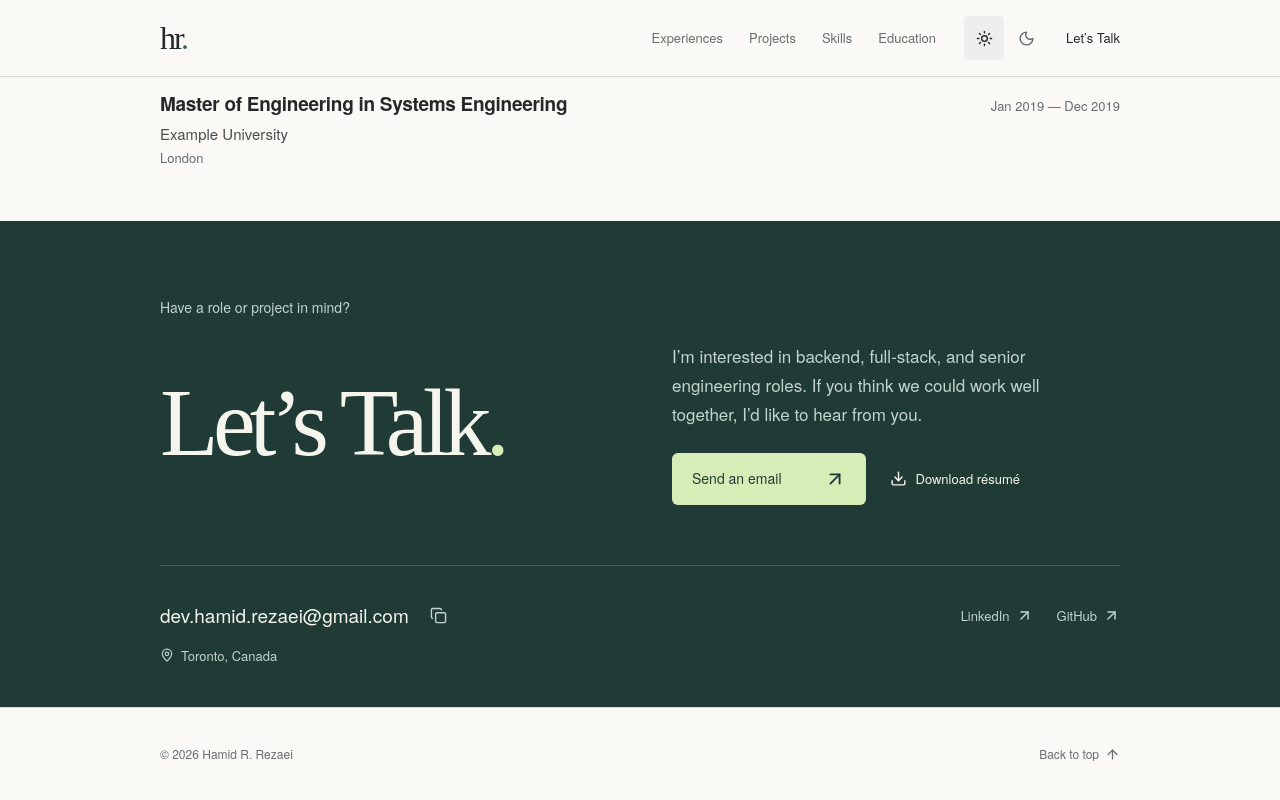
Scenario: resume sections › copies the email and announces the result
The image size is (1280, 800).
(page scrolled)
Click the button named "Copy email address": x=439, y=616 [419, 594, 459, 638]
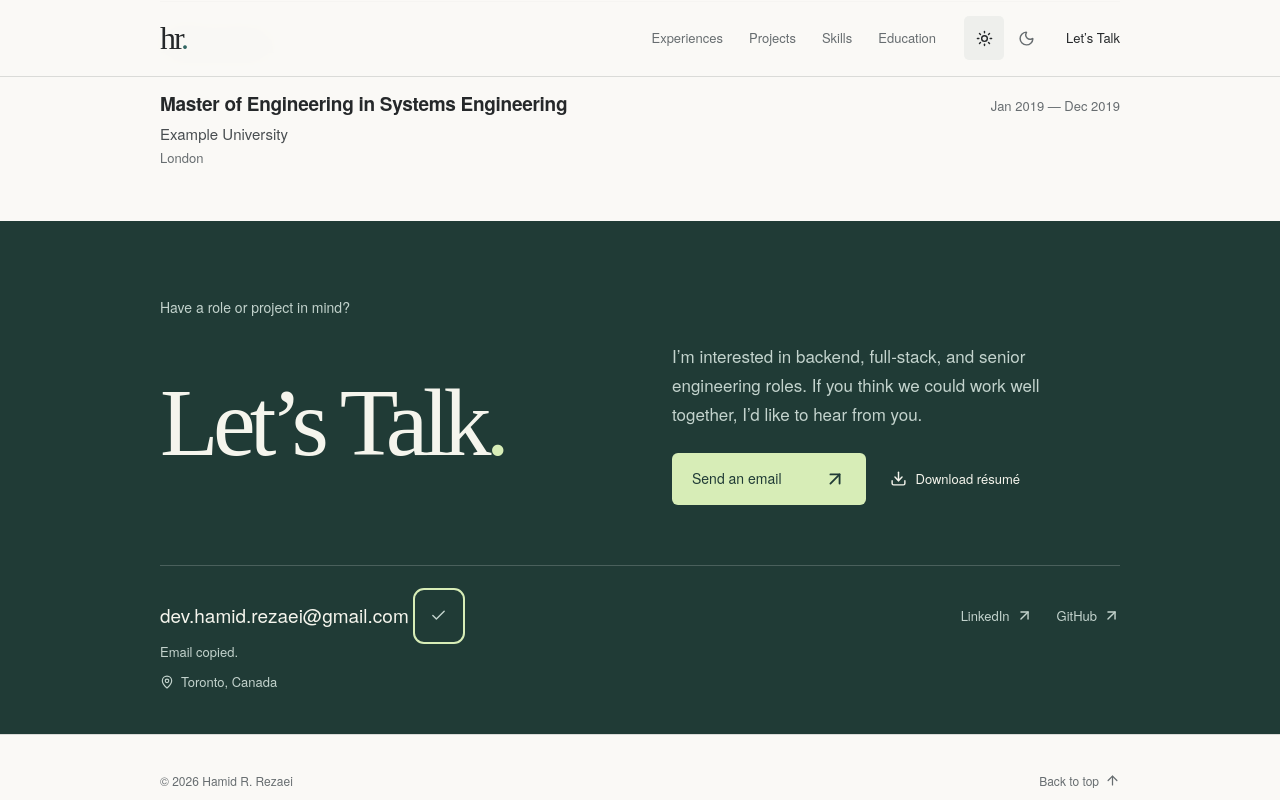
Expected: the message reads "Email copied.", [160, 642, 238, 661]
